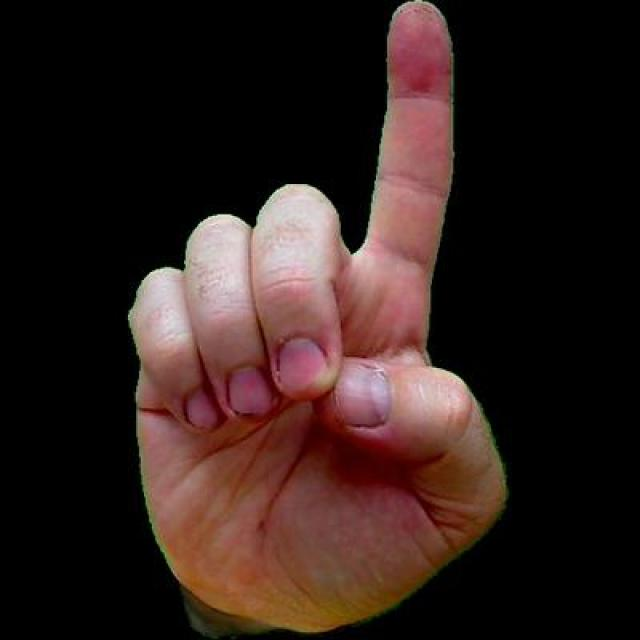d: (113, 0, 510, 637)
